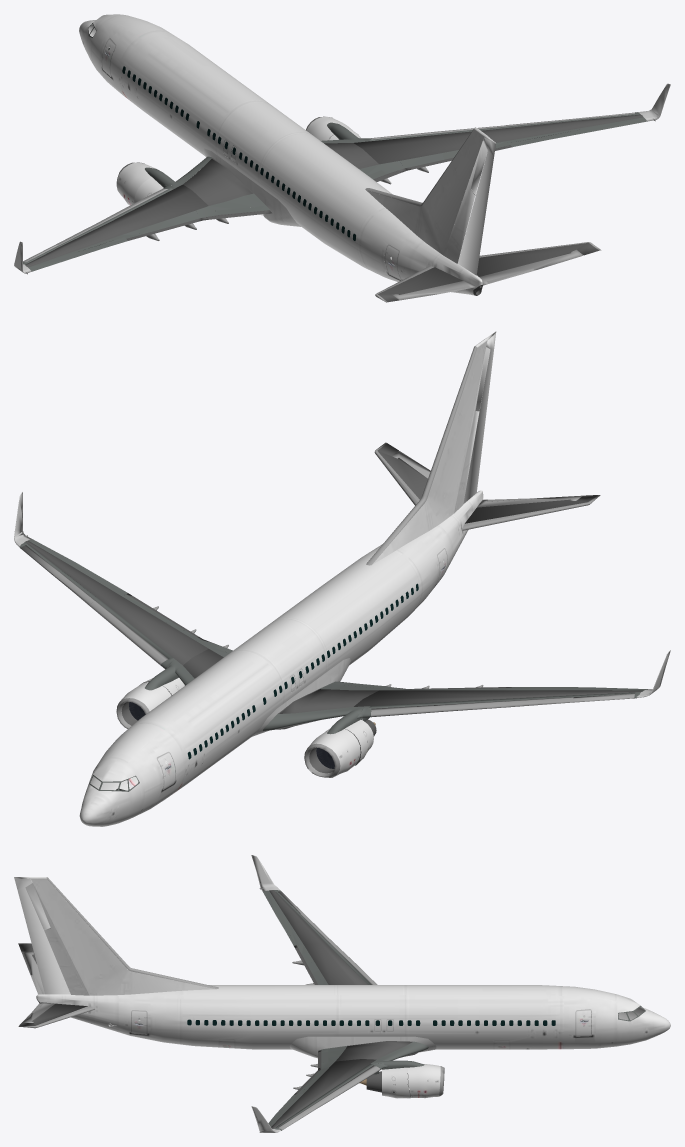
3 views of the same model, one above another, from view 1: azimuth 30°, elevation 25°; view 2: azimuth 150°, elevation 25°; view 3: azimuth 270°, elevation 25° (orthographic). The views are drawn at different scales.
Parts seen in each view (by area): view 1: fuselage, dorrhfront_0, vstab, ngww, windowslh; view 2: fuselage, dorrhfront_0, vstab, ngww, windowslh; view 3: fuselage, dorrhfront_0, vstab, ngww, windowslh.
Boxes of the visible parts, x1=… form: fuselage: x1=79, y1=14, x2=495, y2=295; dorrhfront_0: x1=23, y1=23, x2=655, y2=302; vstab: x1=366, y1=127, x2=495, y2=263; ngww: x1=14, y1=48, x2=670, y2=273; windowslh: x1=27, y1=66, x2=655, y2=273; fuselage: x1=79, y1=333, x2=495, y2=826; dorrhfront_0: x1=19, y1=346, x2=647, y2=791; vstab: x1=372, y1=331, x2=496, y2=564; ngww: x1=14, y1=492, x2=670, y2=790; windowslh: x1=187, y1=583, x2=418, y2=759; fuselage: x1=14, y1=878, x2=670, y2=1098; dorrhfront_0: x1=18, y1=877, x2=645, y2=1132; vstab: x1=14, y1=877, x2=215, y2=995; ngww: x1=135, y1=855, x2=587, y2=1132; windowslh: x1=187, y1=888, x2=555, y2=1132.
Bounding box in the file's own units: 35.69 × 12.12 × 39.42.
Materials: 5 (5 with a texture image).
